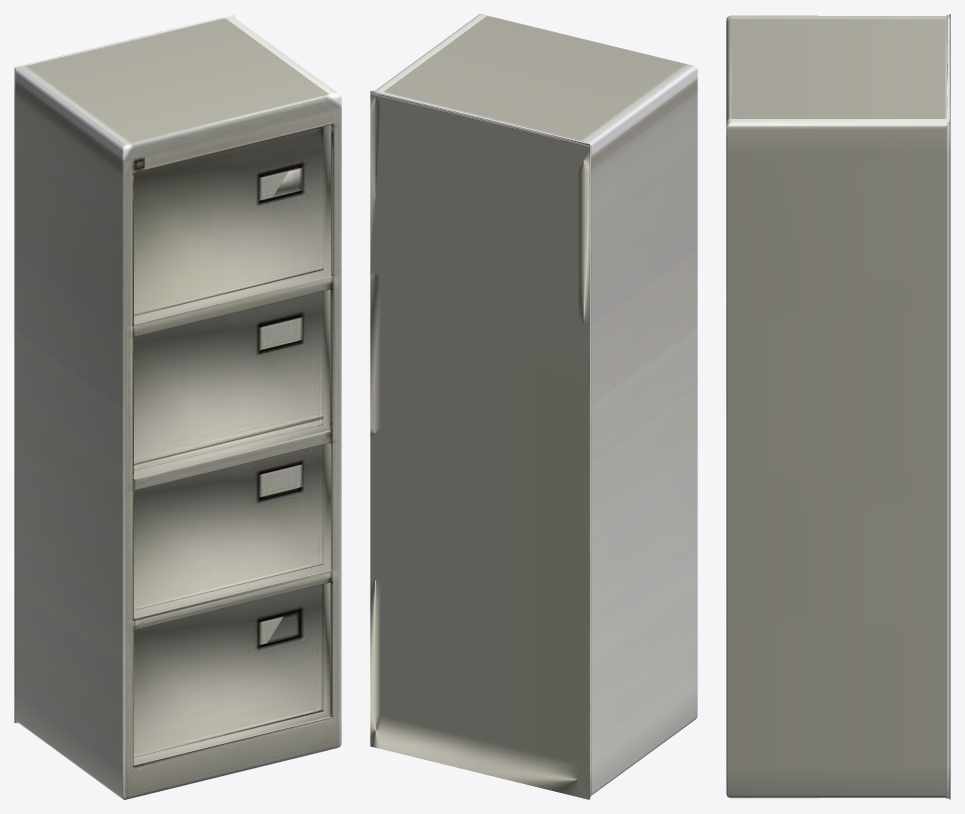
File: Cabinent 2.fbx
3 views of the same model, side by side, from view 1: azimuth 30°, elevation 25°; view 2: azimuth 150°, elevation 25°; view 3: azimuth 270°, elevation 25° (orthographic). The views are drawn at different scales.
Visible parts, largest first — view 1: Cabinet 1; view 2: Cabinet 1; view 3: Cabinet 1.
Boxes of the visible parts, bbox=[...] form: Cabinet 1: bbox=[14, 14, 341, 799]; Cabinet 1: bbox=[370, 14, 697, 799]; Cabinet 1: bbox=[726, 14, 950, 799].
Bounding box in the file's own units: 35 × 100 × 30.06.
